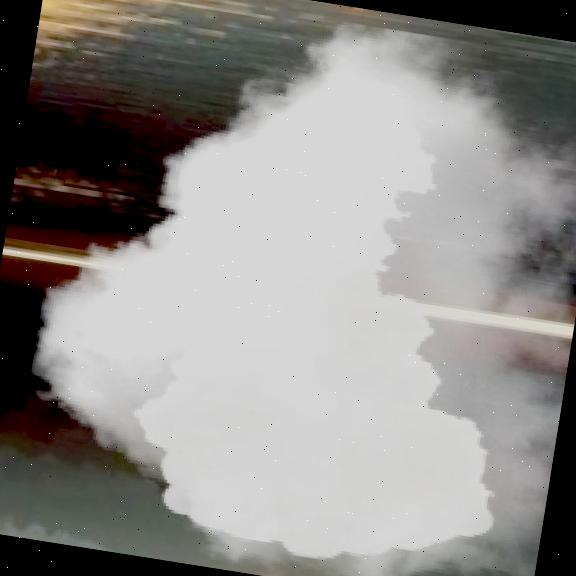smoke: (5, 0, 576, 576)
